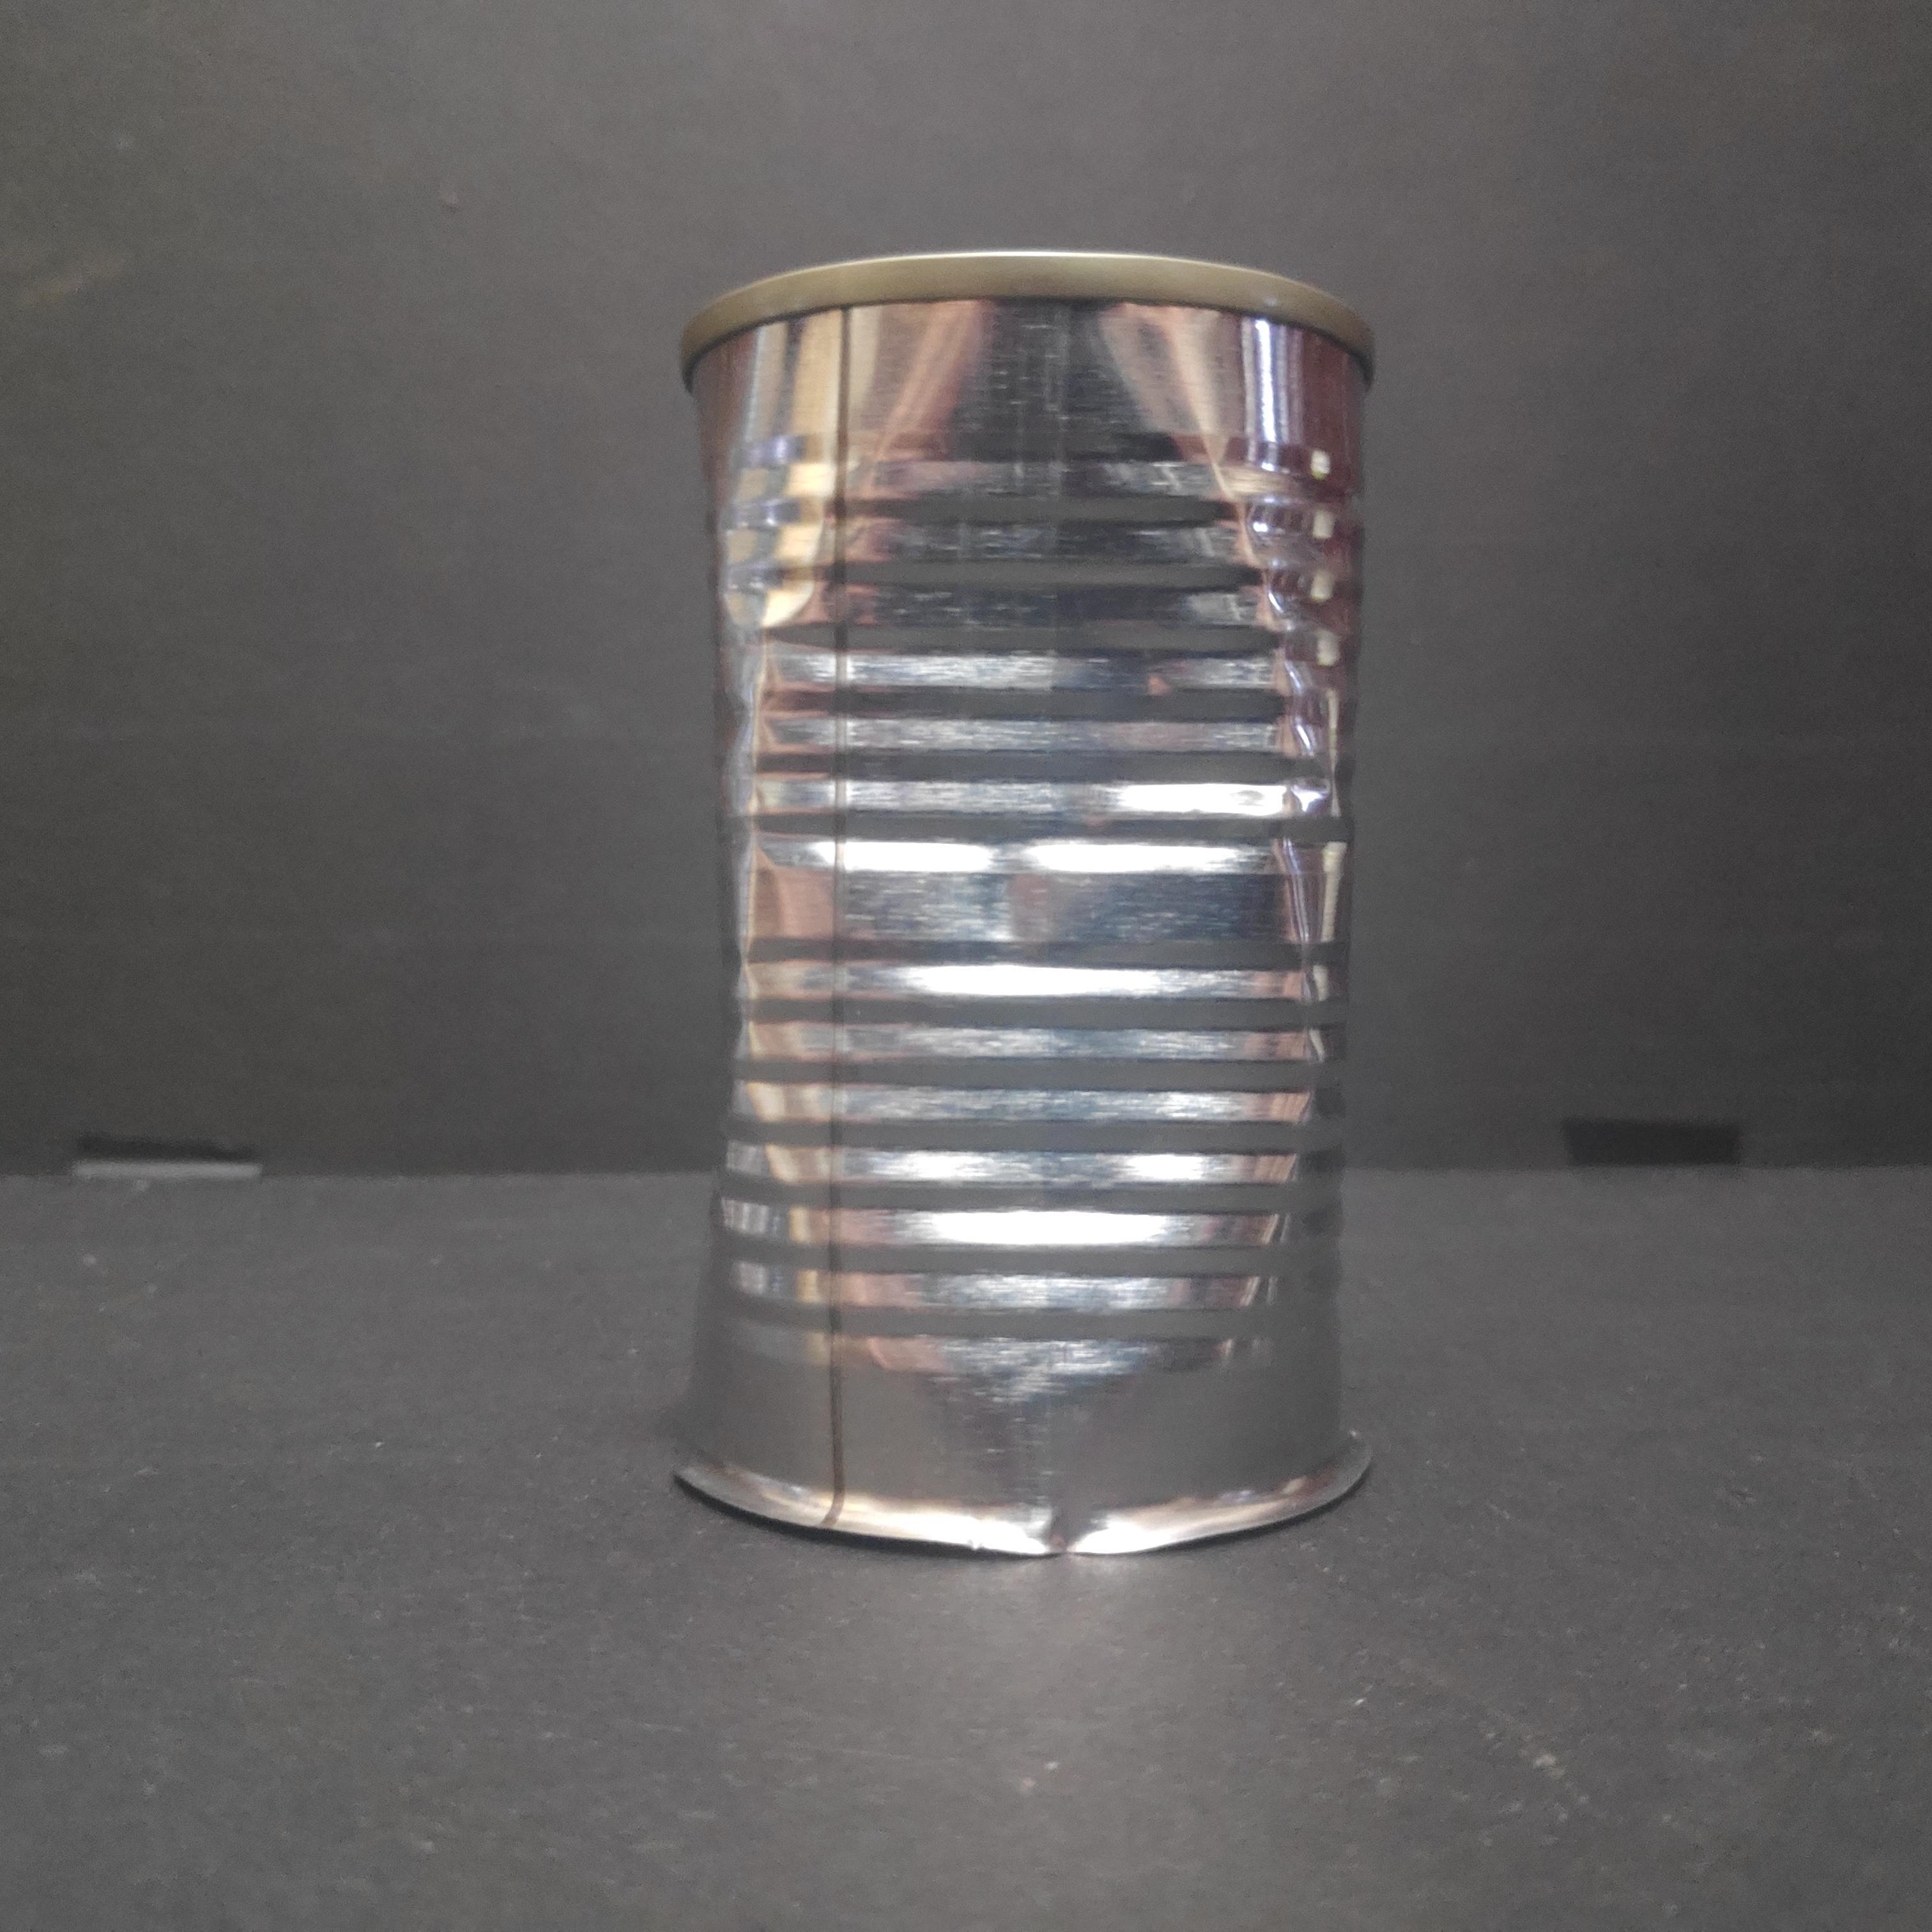Dented: (649, 223, 1408, 1562)
